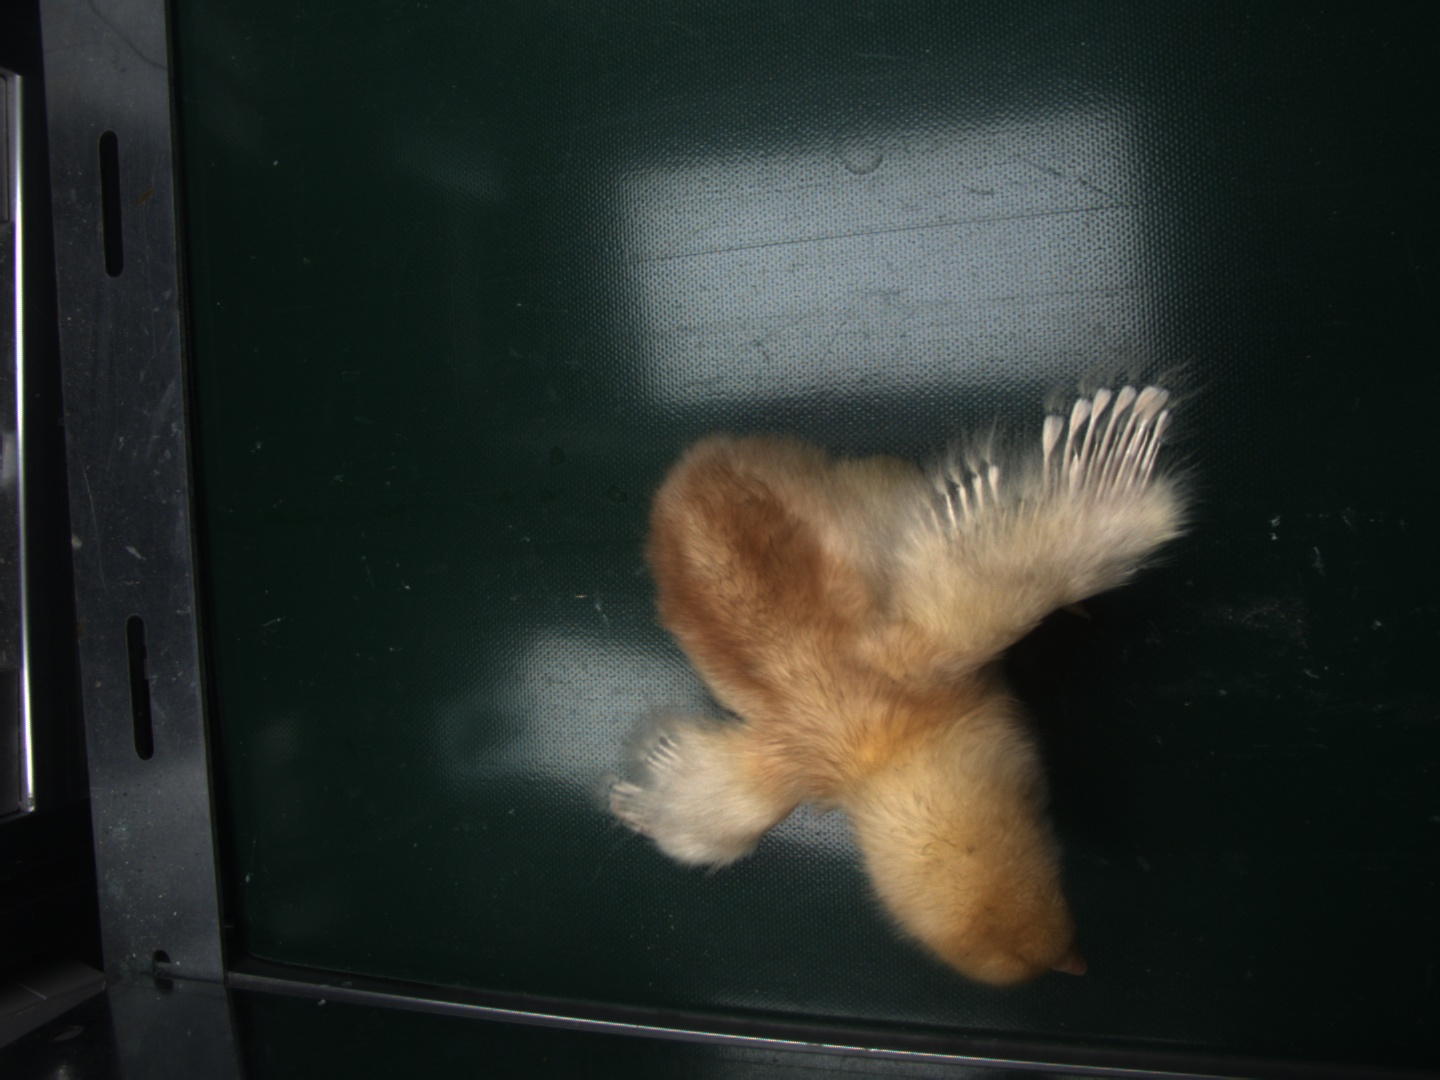female: (1047, 382, 1174, 484)
